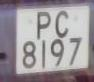1: (38, 38, 50, 72)
7: (65, 34, 84, 71)
8: (19, 38, 40, 73)
9: (47, 37, 68, 70)
C: (52, 8, 73, 41)
P: (33, 9, 55, 42)
